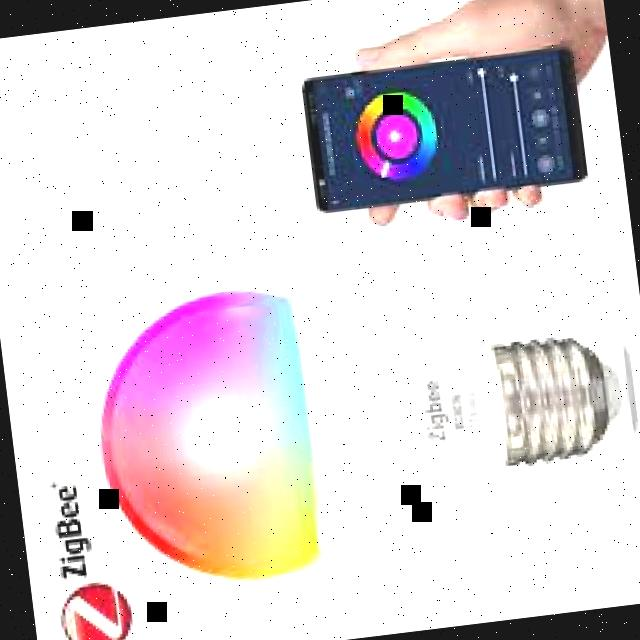light_bulb: (68, 225, 640, 604)
